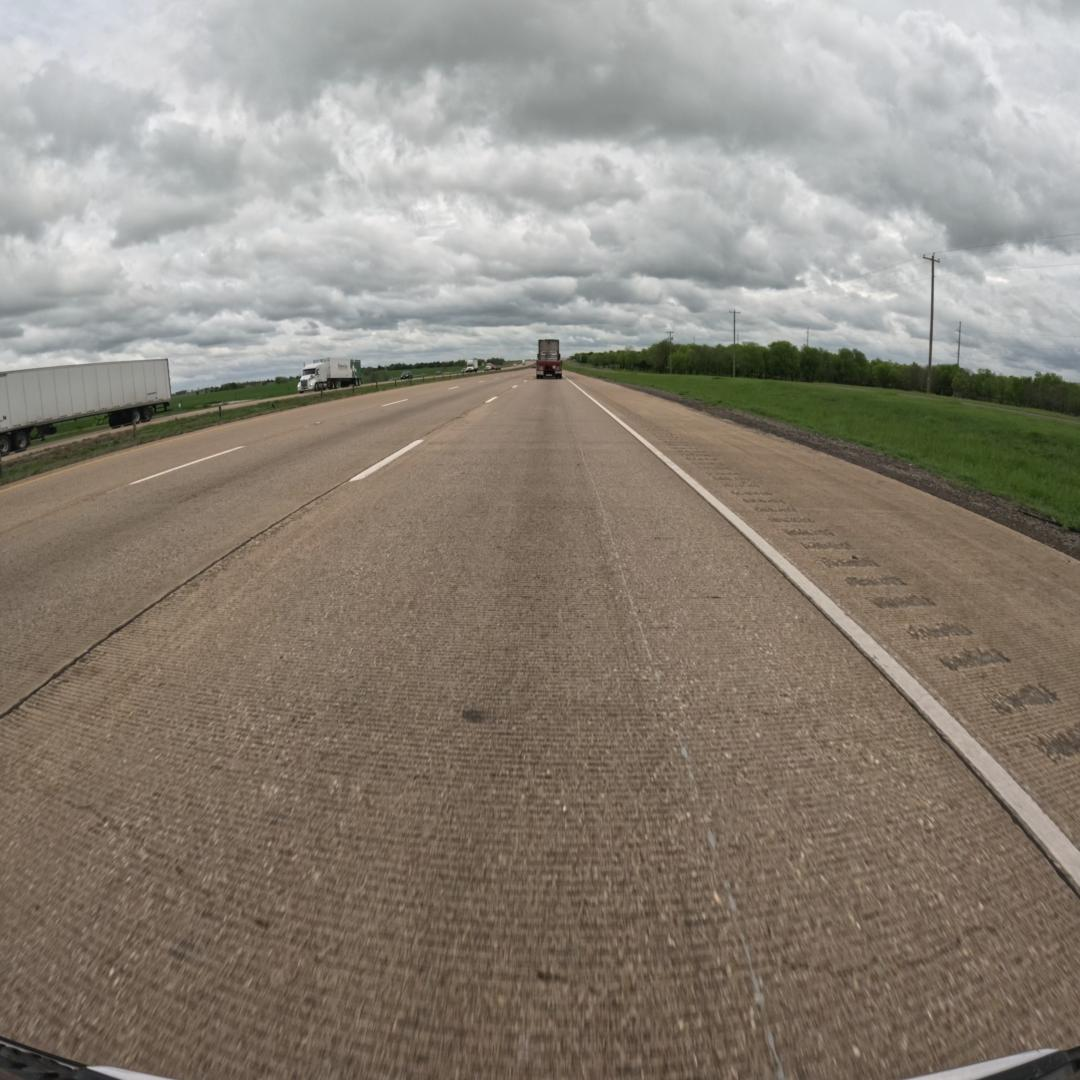lane0: (0, 380, 1080, 1080)
lane1: (0, 373, 527, 715)
